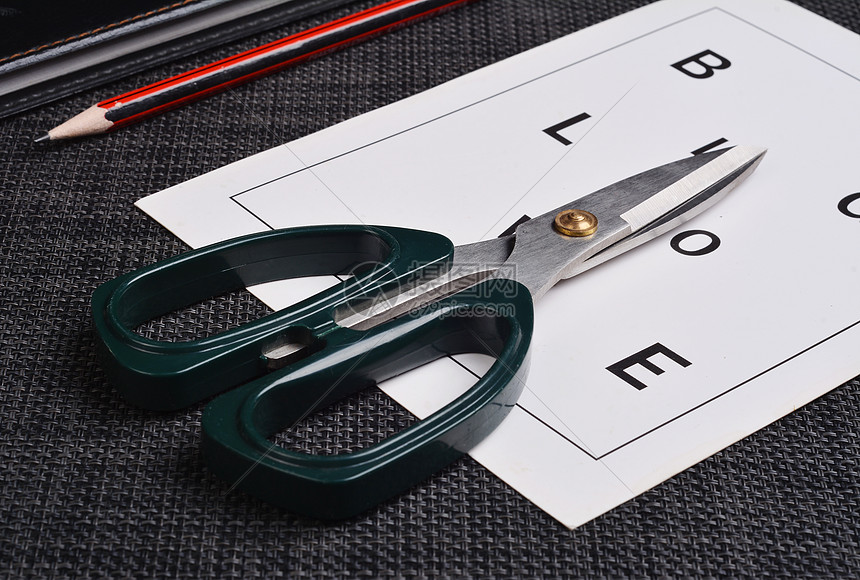scissors: (80, 138, 780, 519)
